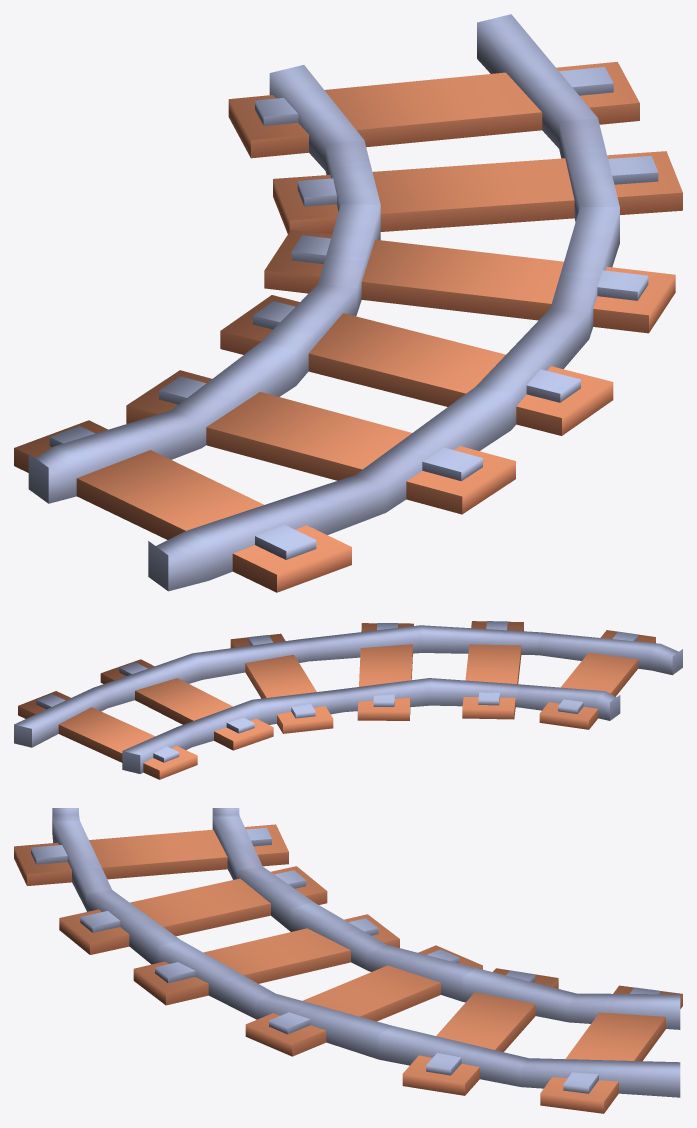
Rendered from kenney-train-railroad-damaged-corner-small.glb.
3 views of the same model, one above another, from view 1: azimuth 30°, elevation 25°; view 2: azimuth 150°, elevation 25°; view 3: azimuth 270°, elevation 25° (orthographic). The views are drawn at different scales.
Parts seen in each view (by area): view 1: railroad-damaged-corner-small; view 2: railroad-damaged-corner-small; view 3: railroad-damaged-corner-small.
Boxes of the visible parts, x1=… form: railroad-damaged-corner-small: x1=14, y1=14, x2=682, y2=592; railroad-damaged-corner-small: x1=14, y1=621, x2=682, y2=779; railroad-damaged-corner-small: x1=14, y1=808, x2=682, y2=1113.
Bounding box in the file's own units: 2.49 × 0.0999 × 2.5.
1 material, 1 textured.
